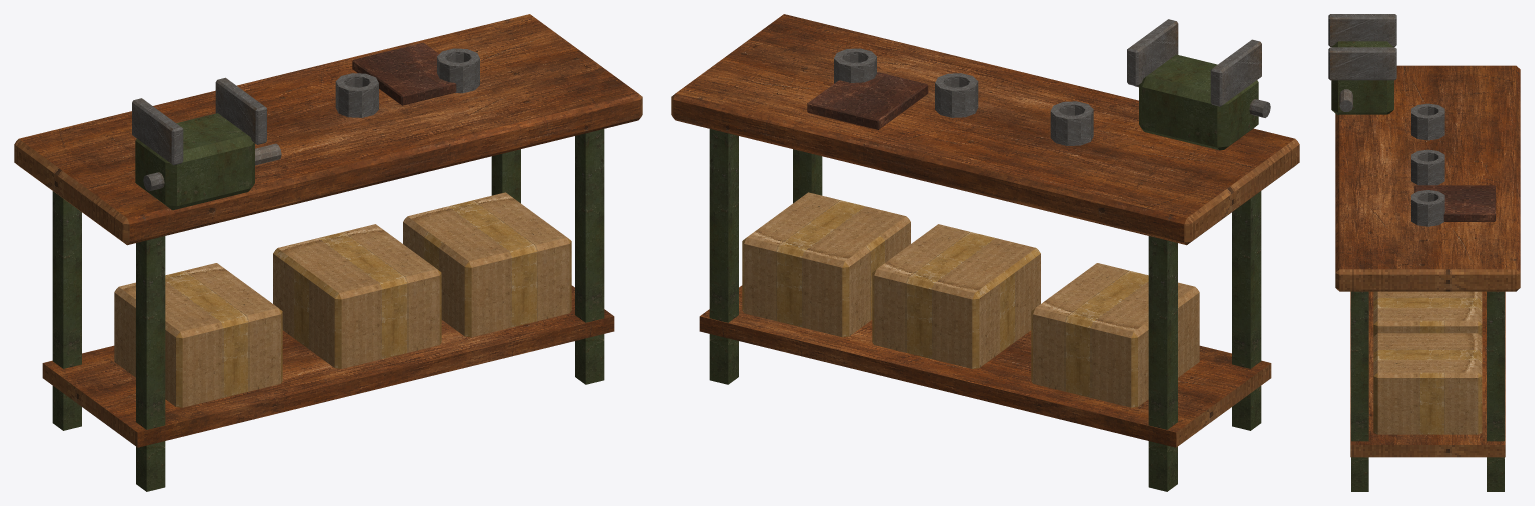
File: level_castle_preparation_bench.glb
3 views of the same model, side by side, from view 1: azimuth 30°, elevation 25°; view 2: azimuth 150°, elevation 25°; view 3: azimuth 270°, elevation 25° (orthographic). The views are drawn at different scales.
Parts seen in each view (by area): view 1: level_workbench; view 2: level_workbench; view 3: level_workbench.
Part boxes in pixels (bbox=[...]): level_workbench: bbox=[14, 14, 642, 491]; level_workbench: bbox=[671, 14, 1299, 491]; level_workbench: bbox=[1328, 14, 1520, 491].
Size of the model in its own units: 1.8 by 1.22 by 0.705.
Materials: 1 (1 with a texture image).
